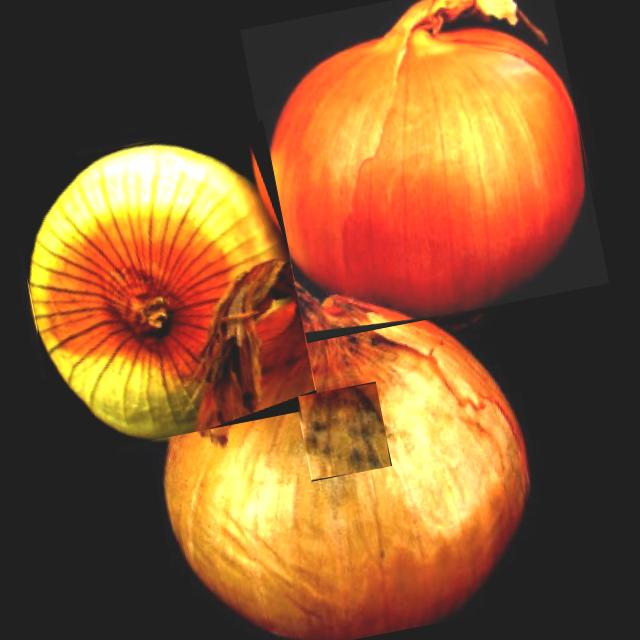healthy: (269, 0, 586, 316), (29, 143, 289, 440)
mould: (304, 387, 383, 470)
